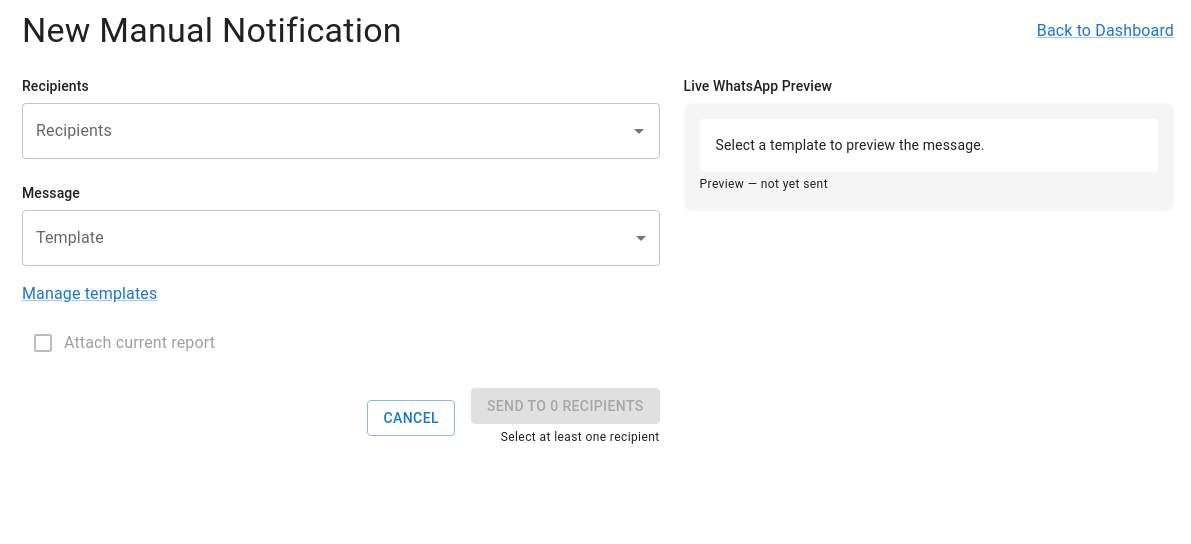
Scenario: NotificationComposePage › keeps Send disabled while a required template variable is left blank
Click the dropdown labelled "Recipients" at [326, 131], box [31, 112, 621, 150]
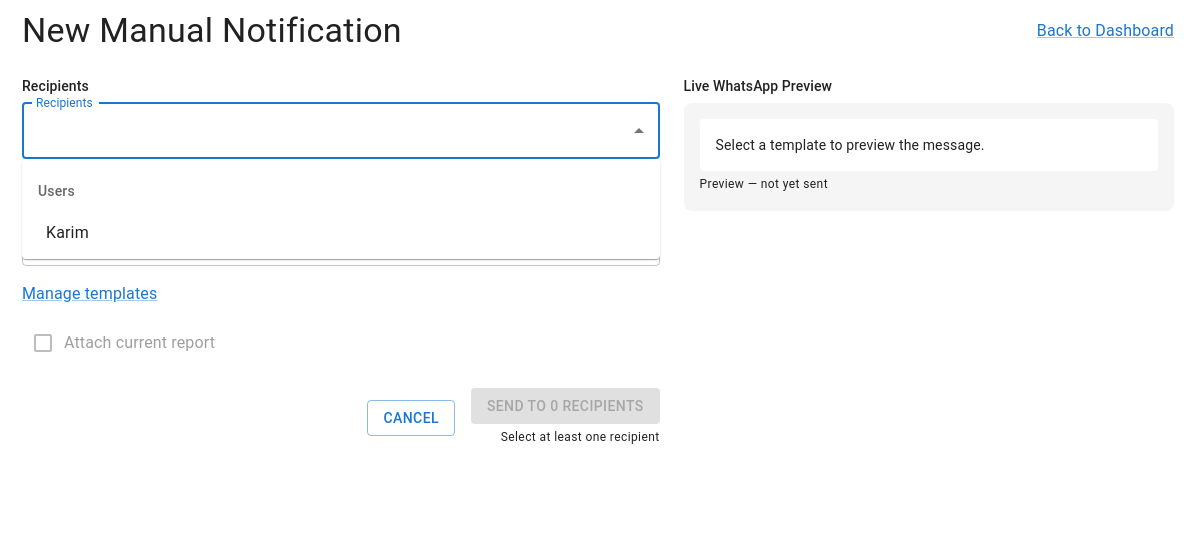
Click the option "Karim" at [67, 232], box [46, 223, 89, 242]
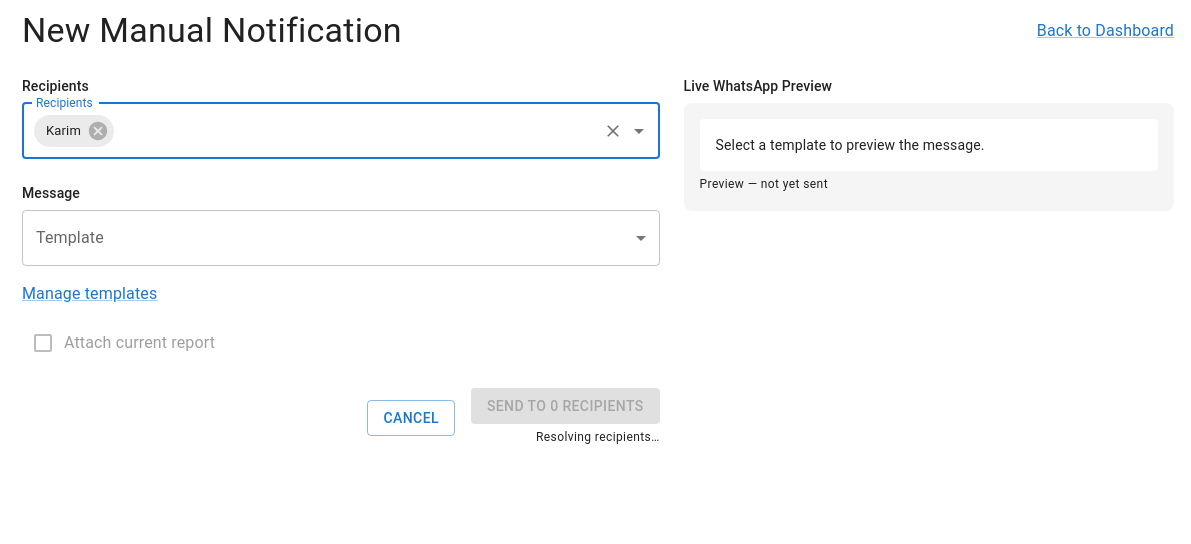
Click the dropdown named "Template" at [341, 238], box [22, 210, 660, 266]
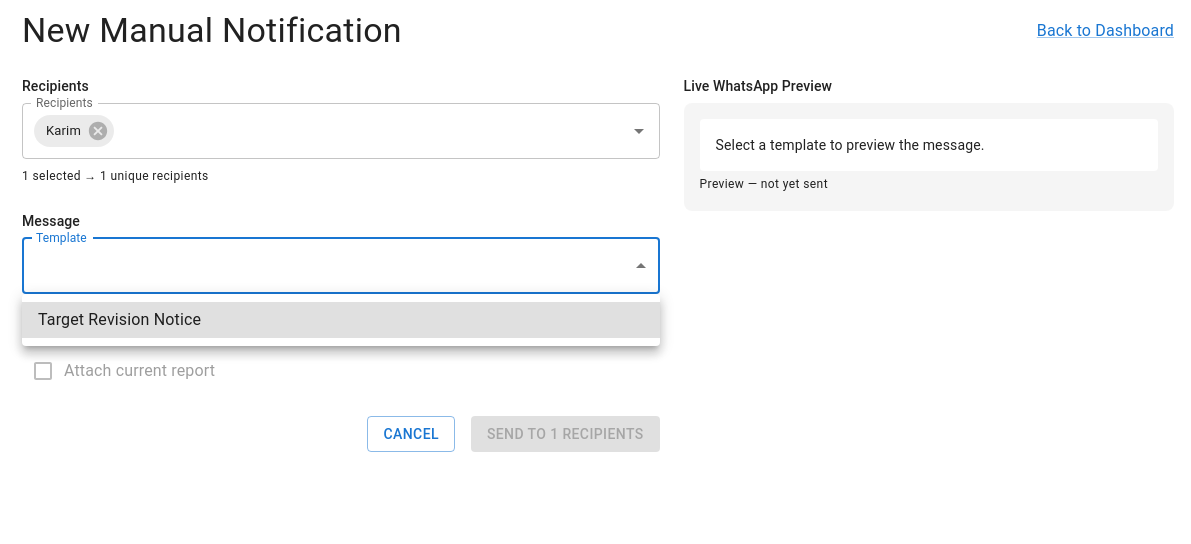
Click the option "Target Revision Notice" at [120, 320], box [22, 302, 660, 338]
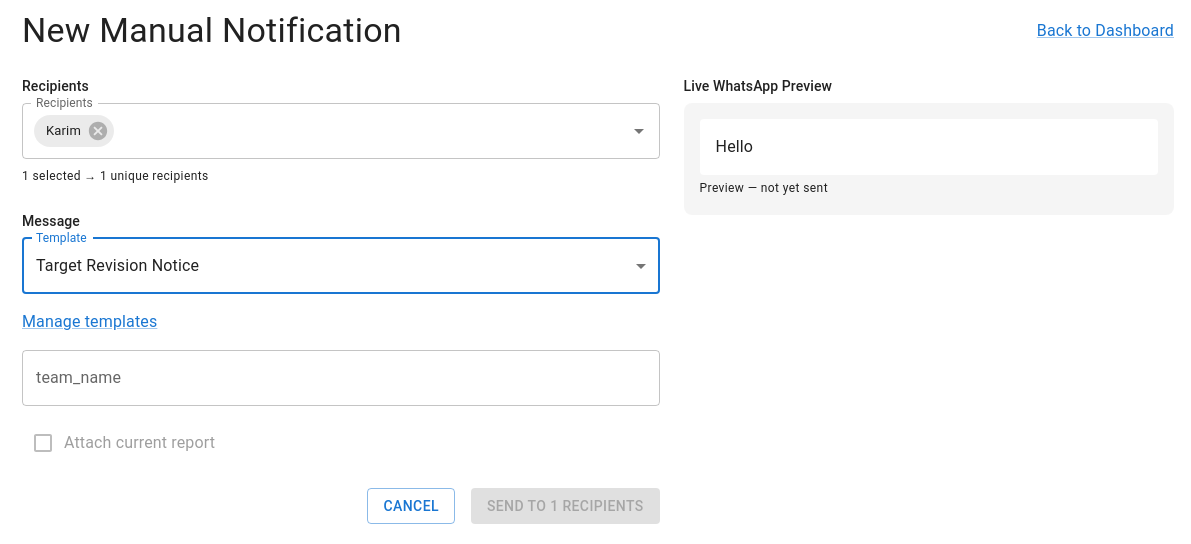
Expected: the button "Send to 1 recipients" is disabled, [471, 488, 660, 524]
Type "Team B" into the field labelled "team_name" at [341, 378], box [22, 350, 660, 406]
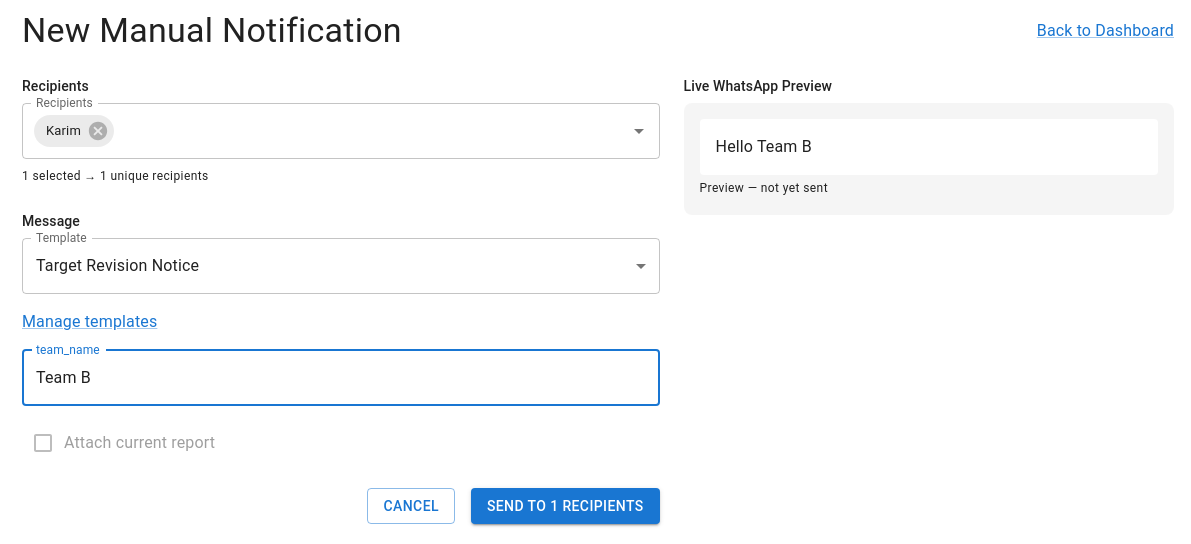
Result: the button "Send to 1 recipients" is enabled at [471, 488, 660, 524]
